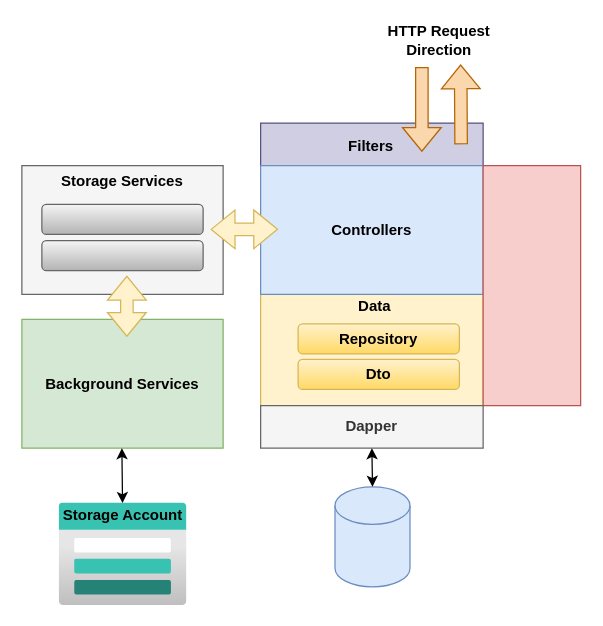
Image size: 603x626. Some labels were removed from this diagram. Here are the shapes that lost their labels. From the top down, the box of each, then its label:
(41, 203, 203, 234): ILocalFileStorage
(41, 239, 203, 271): IRemoteFileStorage
(482, 164, 581, 406): Models
(334, 486, 410, 587): SQL
